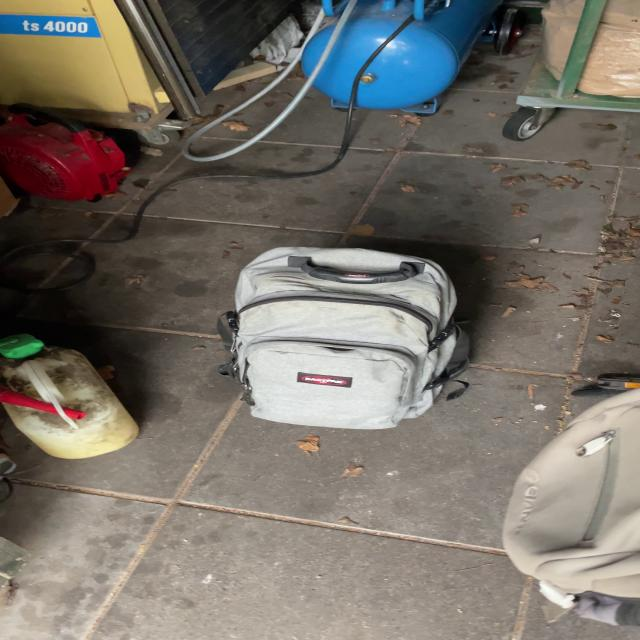backpack: (206, 238, 484, 434)
